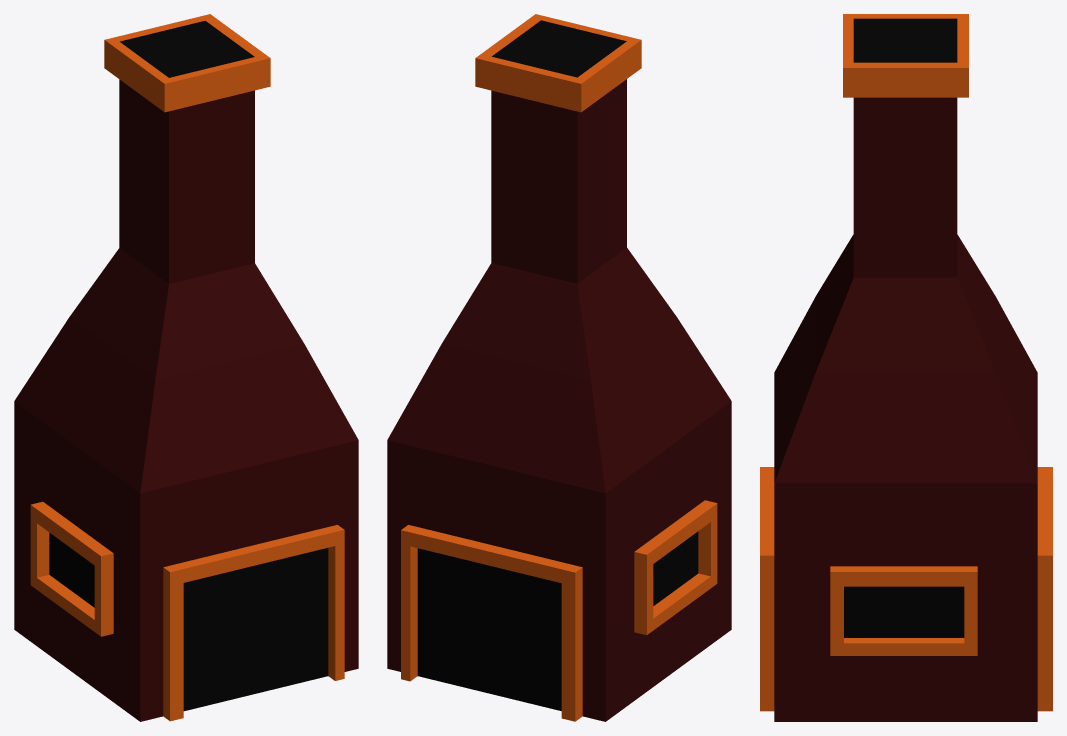
File: ResourceBuilding2.FBX
The picture shows the model from 3 angles, left to right: view 1: azimuth 30°, elevation 25°; view 2: azimuth 150°, elevation 25°; view 3: azimuth 270°, elevation 25°; orthographic projection. The views are drawn at different scales.
Visible parts, largest first — view 1: Box001; view 2: Box001; view 3: Box001.
Part boxes in pixels (x1,y1,x2,y2): Box001: (14, 14, 358, 721); Box001: (387, 14, 731, 721); Box001: (760, 14, 1052, 721).
Size of the model in its own units: 218 by 219 by 517.
